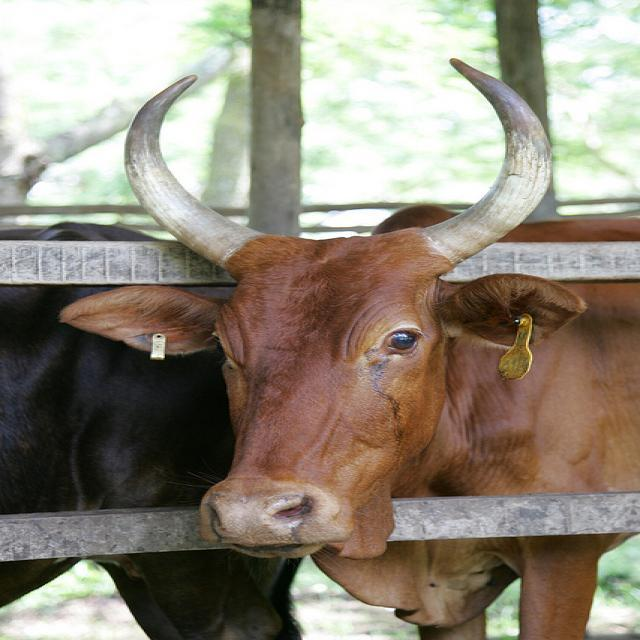cow: (62, 55, 639, 639), (0, 223, 300, 628)
